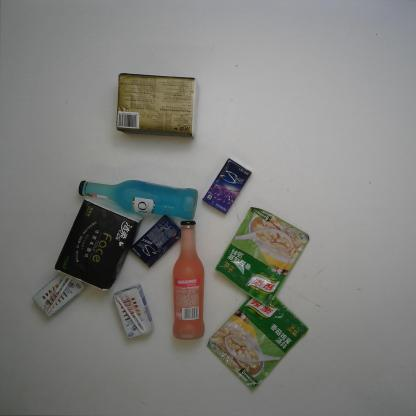Alcohol: (76, 179, 200, 220), (170, 216, 208, 342)
Gum: (201, 154, 257, 215), (128, 212, 180, 274)
Milk: (32, 269, 90, 321), (113, 284, 156, 342)
Seasoner: (205, 292, 310, 390), (212, 206, 311, 309)
Tissue: (52, 193, 142, 290), (114, 72, 201, 140)
